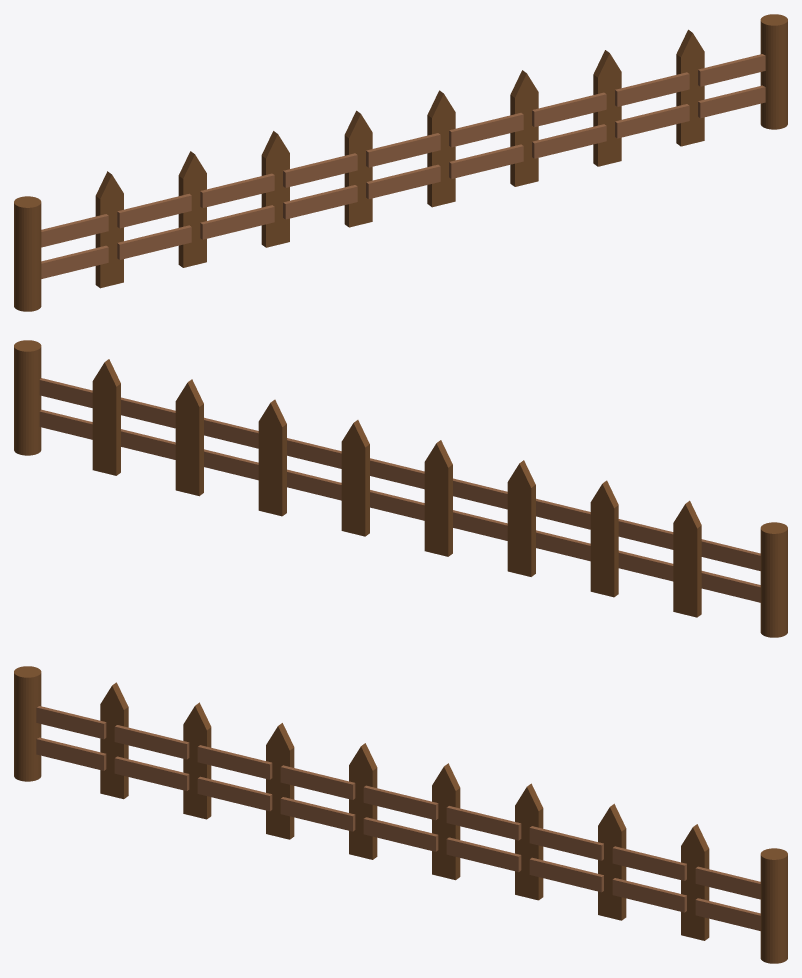
The model's file is wallB.glb.
3 views of the same model, one above another, from view 1: azimuth 30°, elevation 25°; view 2: azimuth 150°, elevation 25°; view 3: azimuth 330°, elevation 25° (orthographic).
Parts seen in each view (by area): view 1: Cylinder.001, Cylinder, Plane.017, Plane.023, Plane.026, Plane.002, Plane.006, Plane.012, Plane.009, Plane, Plane.007, Plane.001 (+16 smaller); view 2: Cylinder.001, Cylinder, Plane.023, Plane.006, Plane.017, Plane.012, Plane, Plane.002, Plane.009, Plane.026, Plane.016, Plane.015 (+16 smaller); view 3: Cylinder, Cylinder.001, Plane.009, Plane.026, Plane.002, Plane.012, Plane.017, Plane, Plane.006, Plane.023, Plane.001, Plane.004 (+16 smaller).
Part boxes in pixels (x1,y1,x2,y2): Cylinder.001: [14, 196, 41, 311]; Cylinder: [760, 14, 787, 129]; Plane.017: [95, 171, 123, 288]; Plane.023: [178, 151, 206, 267]; Plane.026: [261, 131, 289, 247]; Plane.002: [427, 90, 455, 207]; Plane.006: [510, 70, 538, 186]; Plane.012: [676, 29, 704, 146]; Plane.009: [593, 50, 621, 166]; Plane: [344, 110, 372, 227]; Plane.007: [532, 124, 606, 158]; Plane.001: [366, 133, 440, 167]; Cylinder.001: [760, 522, 787, 637]; Cylinder: [14, 340, 41, 455]; Plane.023: [590, 480, 618, 597]; Plane.006: [258, 399, 286, 516]; Plane.017: [673, 500, 701, 617]; Plane.012: [92, 359, 120, 475]; Plane: [424, 440, 452, 556]; Plane.002: [341, 420, 369, 536]; Plane.009: [175, 379, 203, 496]; Plane.026: [507, 460, 535, 576]; Plane.016: [701, 539, 760, 570]; Plane.015: [701, 571, 760, 602]; Cylinder: [760, 848, 787, 963]; Cylinder.001: [14, 666, 41, 781]; Plane.009: [598, 803, 626, 920]; Plane.026: [266, 723, 294, 839]; Plane.002: [432, 763, 460, 880]; Plane.012: [681, 824, 709, 940]; Plane.017: [100, 682, 128, 799]; Plane: [349, 743, 377, 859]; Plane.006: [515, 783, 543, 900]; Plane.023: [183, 702, 211, 819]; Plane.001: [363, 785, 438, 820]; Plane.004: [446, 837, 521, 871].
Size of the model in its own units: 9.29 by 1.28 by 0.286.
